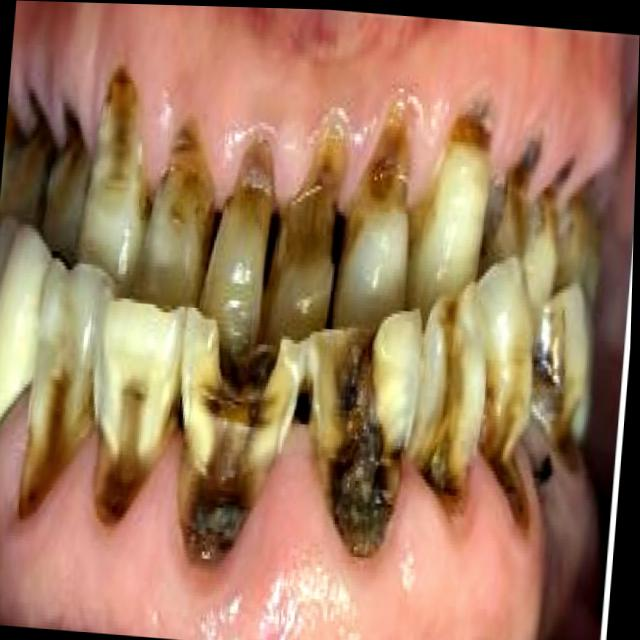gingivitis: (8, 0, 619, 215), (0, 402, 544, 640), (0, 405, 542, 640)
